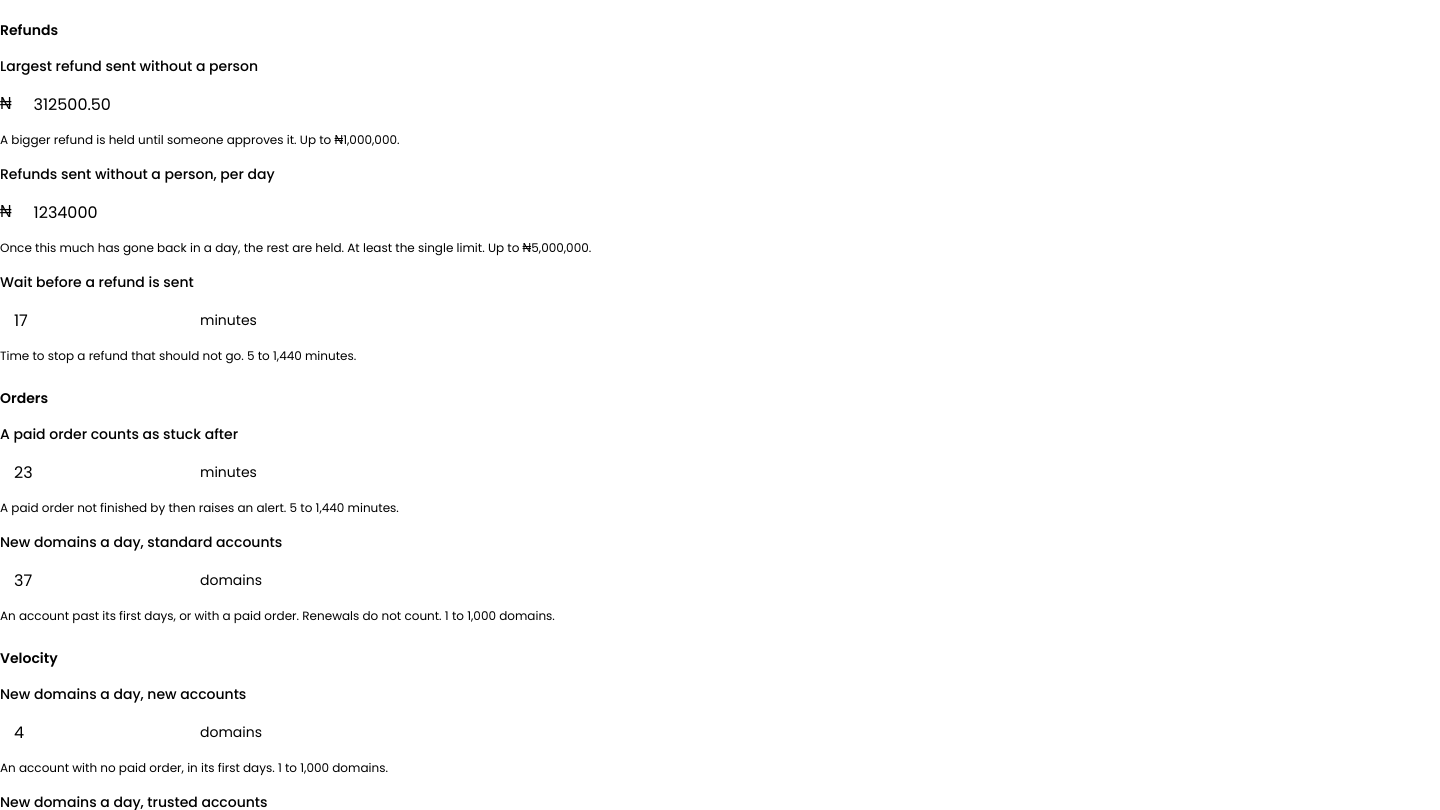
Test: the limits form › says a fall in a refund limit is judged when the worker picks a refund up, and keeps the daily rule
Replace the text in the field labelled "Refunds sent without a person, per day" with "100000" at (116,212), box [20,190,212,234]
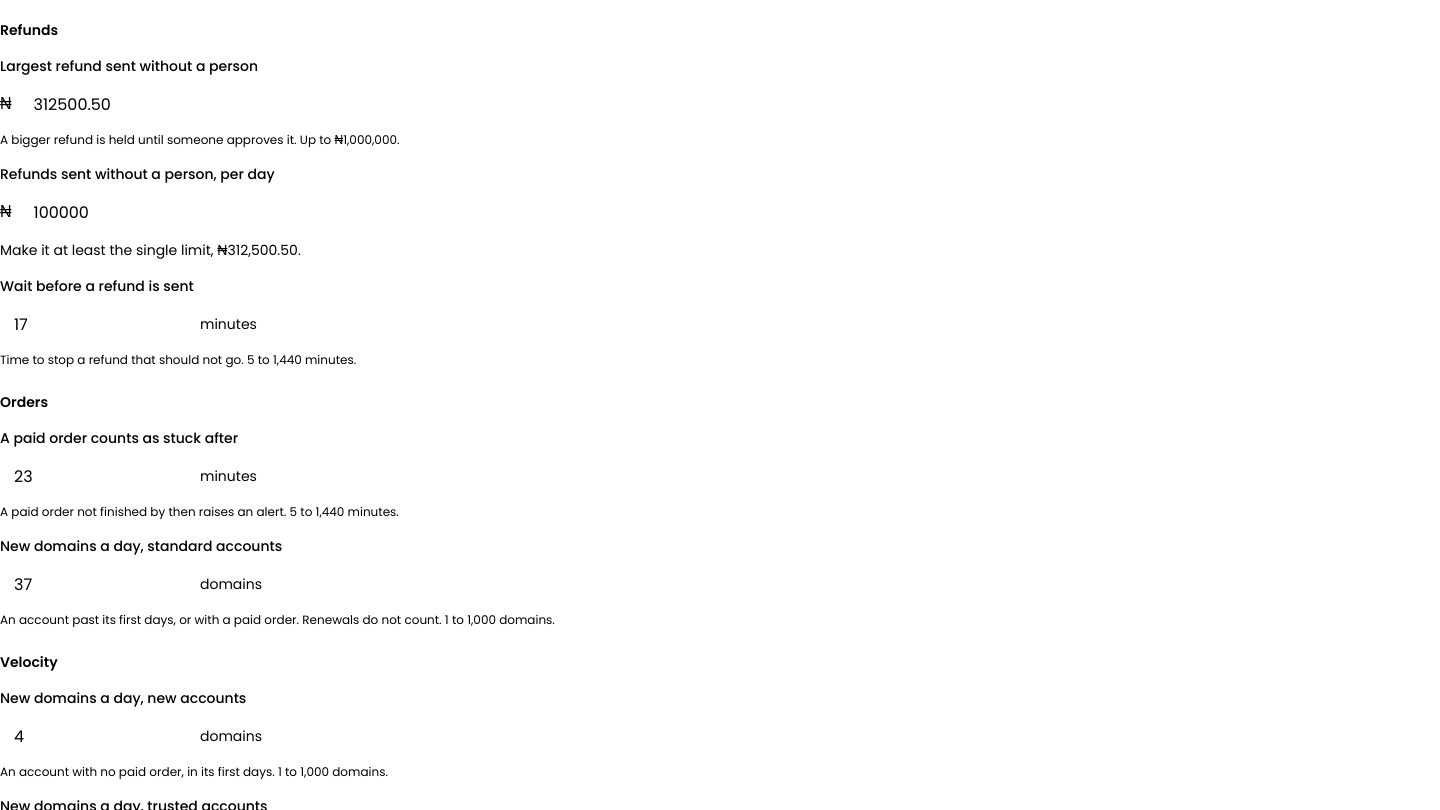
Replace the text in the field labelled "Refunds sent without a person, per day" with "400000" at (116,212), box [20,190,212,234]
(page scrolled)
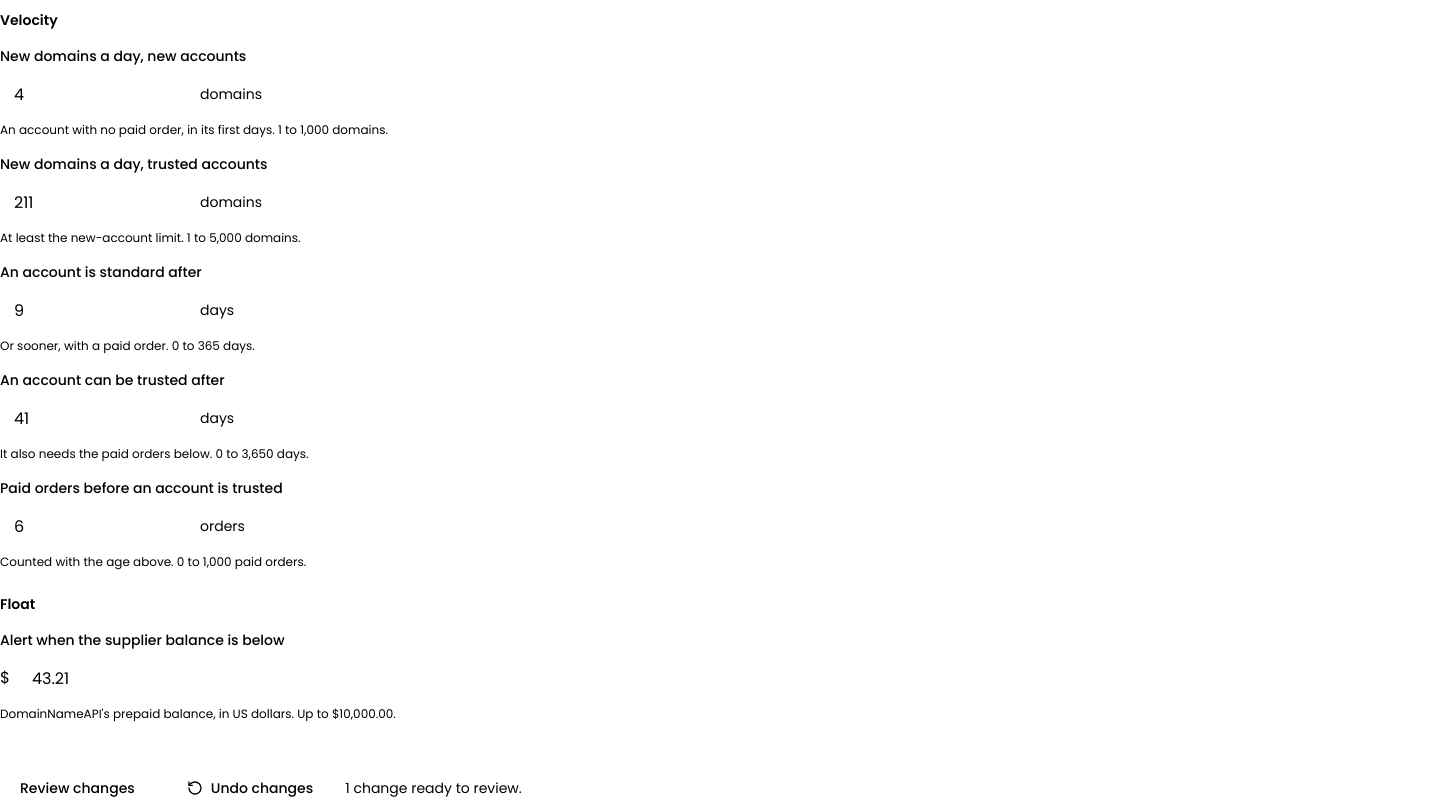
Click the button "Review changes" at (77,788), box [0,766,155,809]
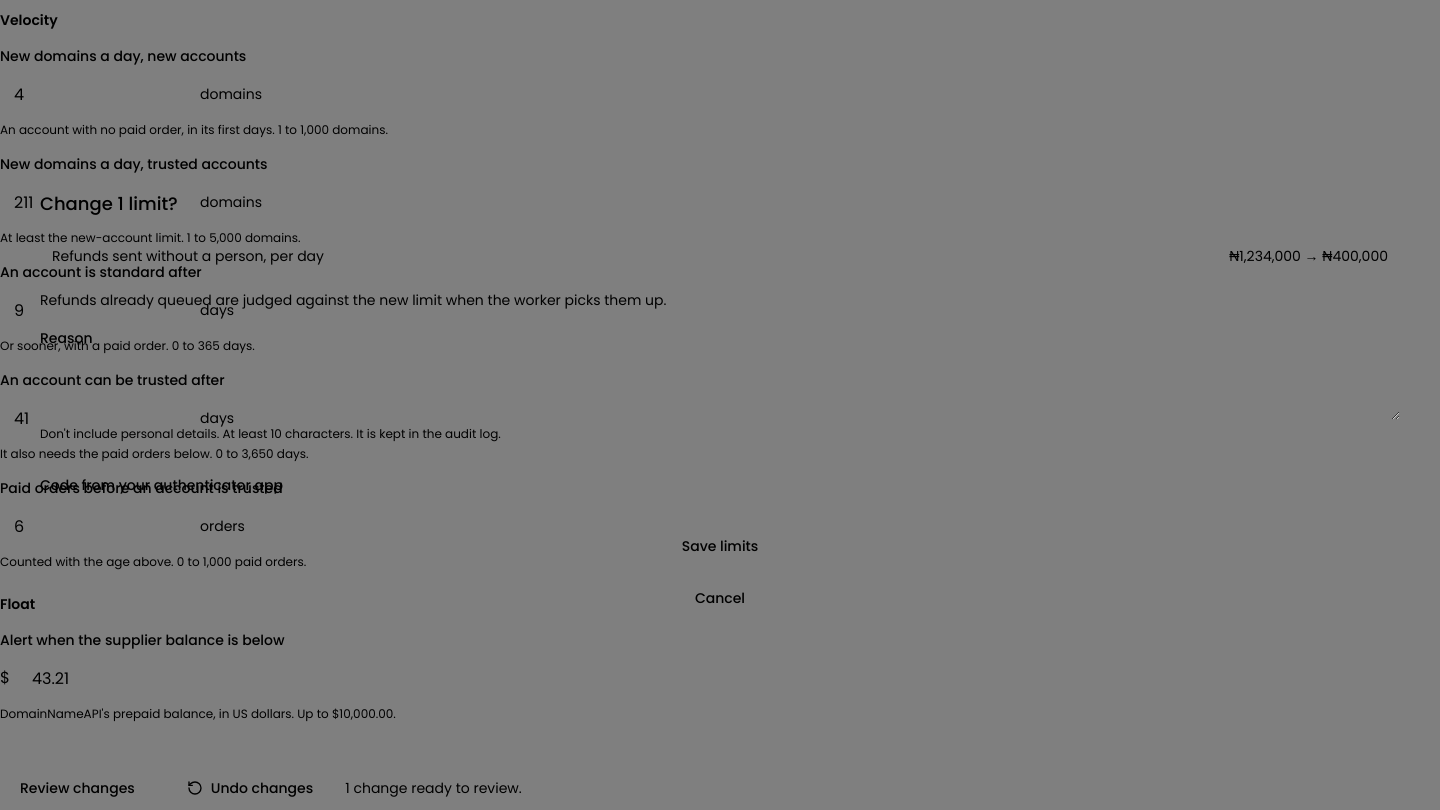
Expected: the dialog "Change 1 limit?" does not show "Telegram", [16,166,1424,644]
Expected: the dialog "Change 1 limit?" shows "judged against the new limit when the worker picks them up", [40,290,666,310]
